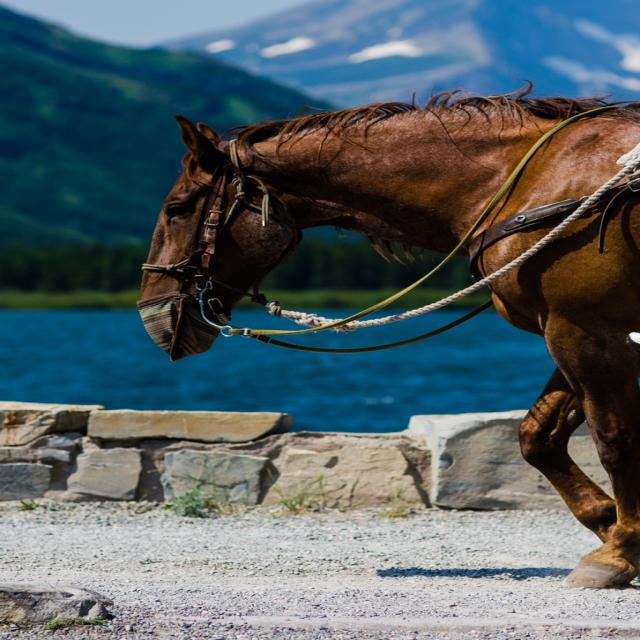Horse: (138, 80, 640, 588)
